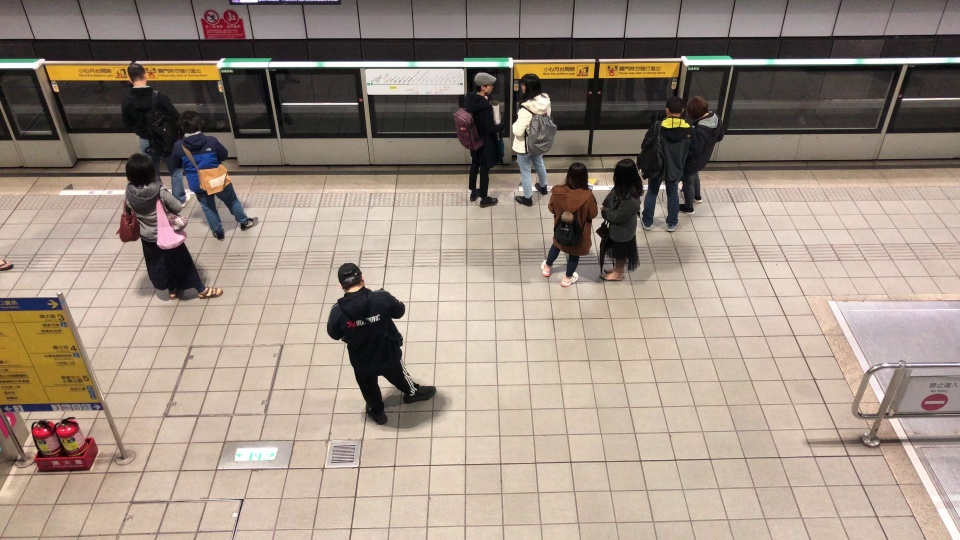person_head: (124, 151, 157, 186), (613, 159, 641, 196), (337, 261, 365, 292), (175, 108, 202, 137), (684, 92, 710, 119), (472, 71, 498, 96), (564, 161, 588, 187), (519, 71, 542, 96), (127, 62, 149, 87), (665, 94, 684, 117)
person_vbox: (322, 261, 437, 425), (123, 151, 223, 303), (169, 107, 259, 240), (120, 63, 191, 207), (636, 96, 695, 232), (539, 160, 599, 288), (453, 70, 506, 207), (595, 158, 647, 280), (511, 72, 557, 207), (675, 96, 724, 214)
